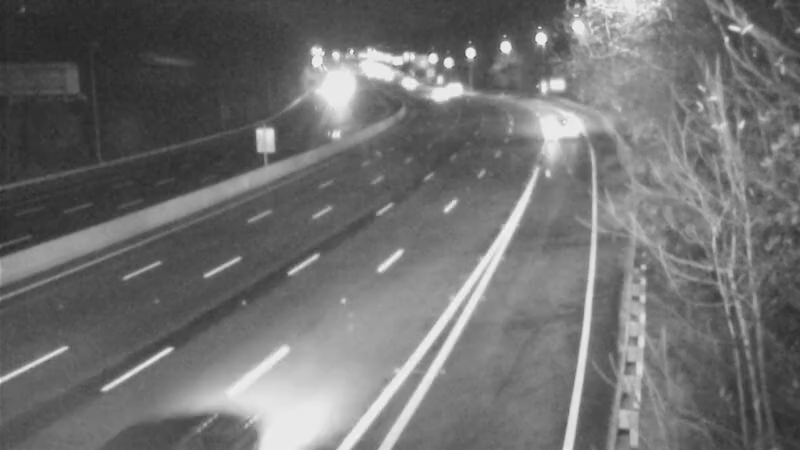vehicle: (126, 358, 236, 450), (414, 70, 464, 120), (537, 102, 587, 152)
